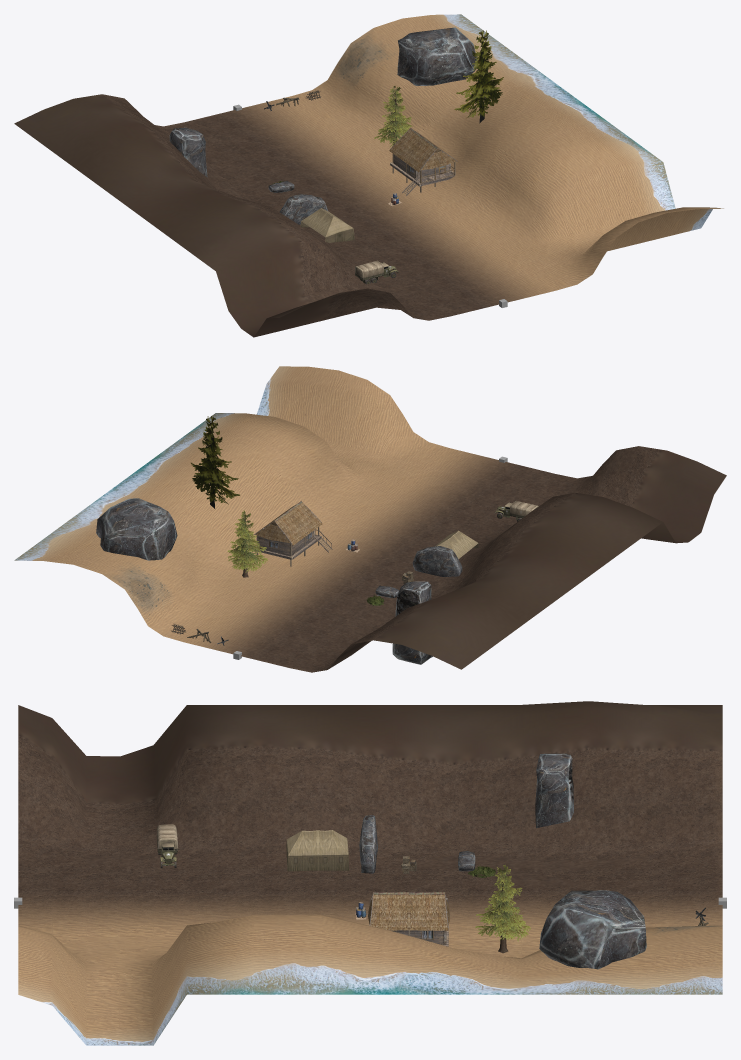
Rendered from Map_Portrait01.fbx.
The picture shows the model from 3 angles, top to bottom: view 1: azimuth 30°, elevation 25°; view 2: azimuth 150°, elevation 25°; view 3: azimuth 270°, elevation 25°; orthographic projection. The views are drawn at different scales.
Parts seen in each view (by area): view 1: Terrain_MP1_L, Rock0_MP1_L, Assets_MP1_house_L, TreeTrans_MP1_L, Rock2_MP1_L, Branches_MP1_L, Assets_MP1_tent_L, Rock3_MP1_L, Assets_MP1_car_L; view 2: Terrain_MP1_L, Rock0_MP1_L, Assets_MP1_house_L, TreeTrans_MP1_L, Rock2_MP1_L, Branches_MP1_L, Rock3_MP1_L, Assets_MP1_tent_L, Assets_MP1_car_L; view 3: Terrain_MP1_L, Rock0_MP1_L, Assets_MP1_house_L, Rock2_MP1_L, Assets_MP1_tent_L, Branches_MP1_L, Rock3_MP1_L, Assets_MP1_car_L.
Part boxes in pixels (x1=…): Terrain_MP1_L: x1=14, y1=14, x2=723, y2=337; Rock0_MP1_L: x1=397, y1=27, x2=476, y2=85; Assets_MP1_house_L: x1=389, y1=128, x2=458, y2=195; TreeTrans_MP1_L: x1=454, y1=30, x2=503, y2=123; Rock2_MP1_L: x1=169, y1=127, x2=207, y2=177; Branches_MP1_L: x1=374, y1=86, x2=412, y2=146; Assets_MP1_tent_L: x1=300, y1=208, x2=354, y2=242; Rock3_MP1_L: x1=279, y1=194, x2=328, y2=224; Assets_MP1_car_L: x1=355, y1=260, x2=398, y2=284; Terrain_MP1_L: x1=14, y1=366, x2=726, y2=672; Rock0_MP1_L: x1=96, y1=498, x2=177, y2=560; Assets_MP1_house_L: x1=254, y1=501, x2=332, y2=566; TreeTrans_MP1_L: x1=191, y1=416, x2=239, y2=508; Rock2_MP1_L: x1=392, y1=581, x2=432, y2=664; Branches_MP1_L: x1=227, y1=510, x2=267, y2=572; Rock3_MP1_L: x1=412, y1=546, x2=462, y2=576; Assets_MP1_tent_L: x1=435, y1=530, x2=478, y2=558; Assets_MP1_car_L: x1=494, y1=501, x2=538, y2=521; Terrain_MP1_L: x1=18, y1=701, x2=722, y2=1045; Rock0_MP1_L: x1=539, y1=890, x2=646, y2=969; Assets_MP1_house_L: x1=368, y1=892, x2=449, y2=946; Rock2_MP1_L: x1=535, y1=753, x2=573, y2=828; Assets_MP1_tent_L: x1=286, y1=830, x2=349, y2=871; Branches_MP1_L: x1=475, y1=864, x2=530, y2=941; Rock3_MP1_L: x1=359, y1=815, x2=377, y2=873; Assets_MP1_car_L: x1=156, y1=824, x2=179, y2=868.
Size of the model in its own units: 8224 by 2729 by 8549.
